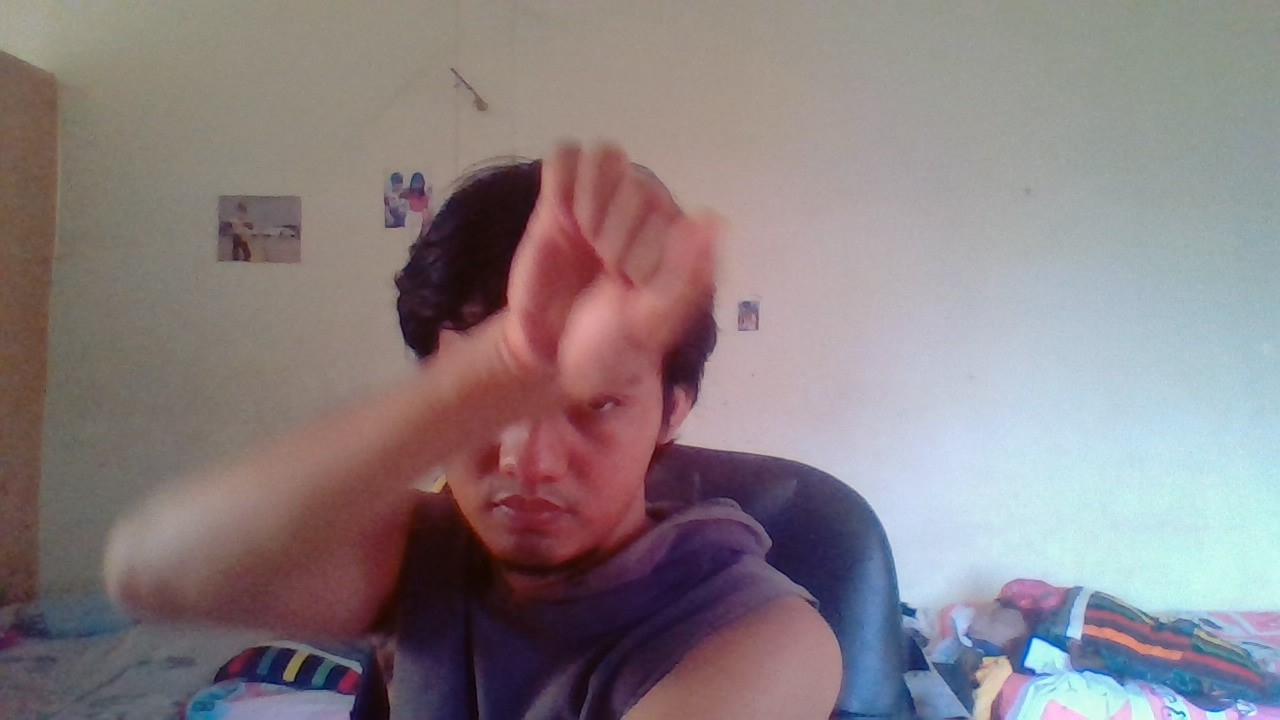A: (480, 127, 774, 396)
